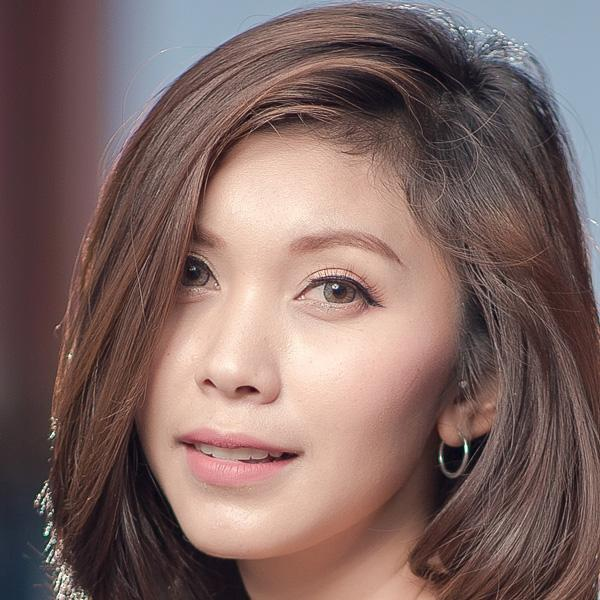Eyes: (283, 256, 384, 324), (142, 244, 226, 302)
